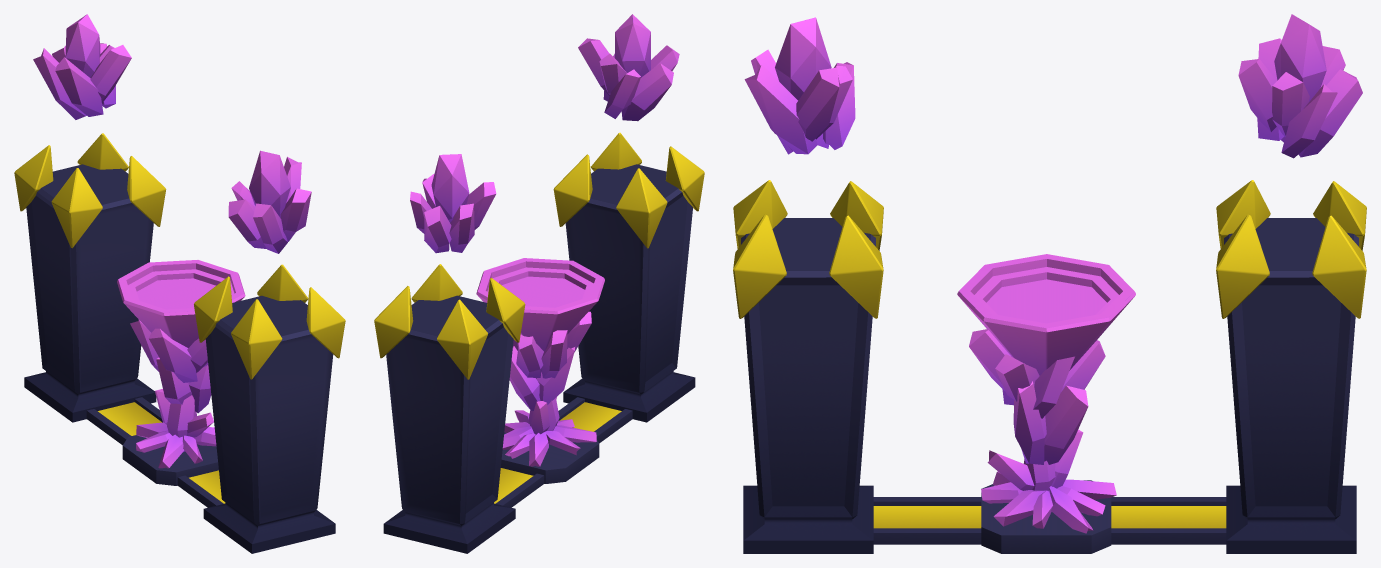
Rendered from tesla_towers_03.fbx.
3 views of the same model, side by side, from view 1: azimuth 30°, elevation 25°; view 2: azimuth 150°, elevation 25°; view 3: azimuth 270°, elevation 25° (orthographic). The views are drawn at different scales.
Parts seen in each view (by area): view 1: towers, crystal_base, pedistal, R_crystal, L_crystal; view 2: towers, crystal_base, pedistal, L_crystal, R_crystal; view 3: towers, crystal_base, pedistal, R_crystal, L_crystal.
Part boxes in pixels (x1,y1,x2,y2): towers: (14,133,345,553); crystal_base: (130,320,216,468); pedistal: (117,260,245,347); R_crystal: (33,14,131,119); L_crystal: (228,150,311,253); towers: (374,132,704,553); crystal_base: (502,311,596,466); pedistal: (476,258,604,351); L_crystal: (578,14,679,121); R_crystal: (410,154,496,253); towers: (733,180,1366,553); crystal_base: (969,329,1116,533); pedistal: (957,254,1135,375); R_crystal: (1238,14,1362,158); L_crystal: (744,17,855,154).
Bounding box in the file's own units: 1.21 × 3.76 × 4.28.
